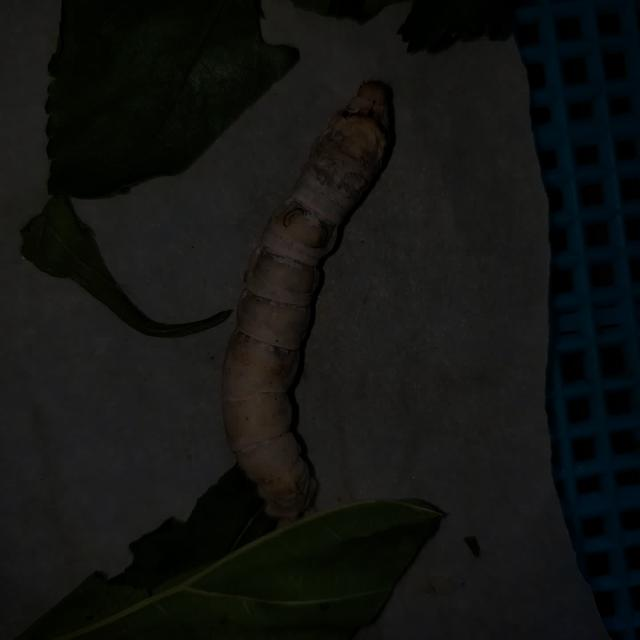Grasserie: (200, 29, 434, 548)
